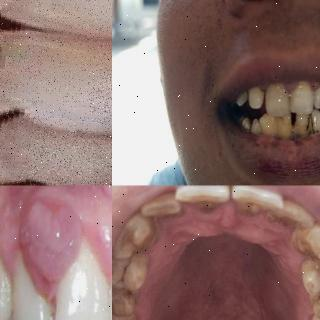Gum Swelling: (14, 200, 112, 302), (281, 78, 299, 94), (308, 76, 320, 92), (256, 83, 270, 93)
calculus: (276, 115, 292, 139), (261, 118, 279, 136), (295, 115, 307, 137)
plaque: (289, 81, 317, 115), (267, 81, 291, 110)
stains: (112, 253, 148, 294), (124, 221, 158, 249), (191, 189, 221, 220), (229, 196, 263, 222), (268, 207, 304, 231), (292, 226, 320, 255), (148, 205, 184, 227), (112, 287, 138, 317), (298, 262, 320, 297), (308, 286, 320, 314), (300, 113, 314, 135), (310, 114, 320, 136)
